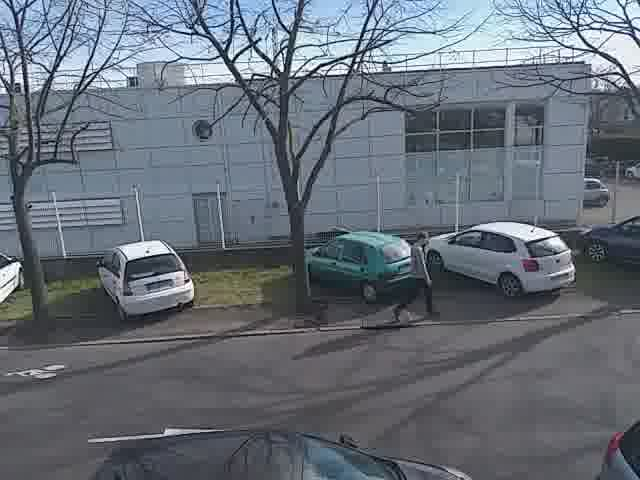persona: (389, 229, 443, 323)
